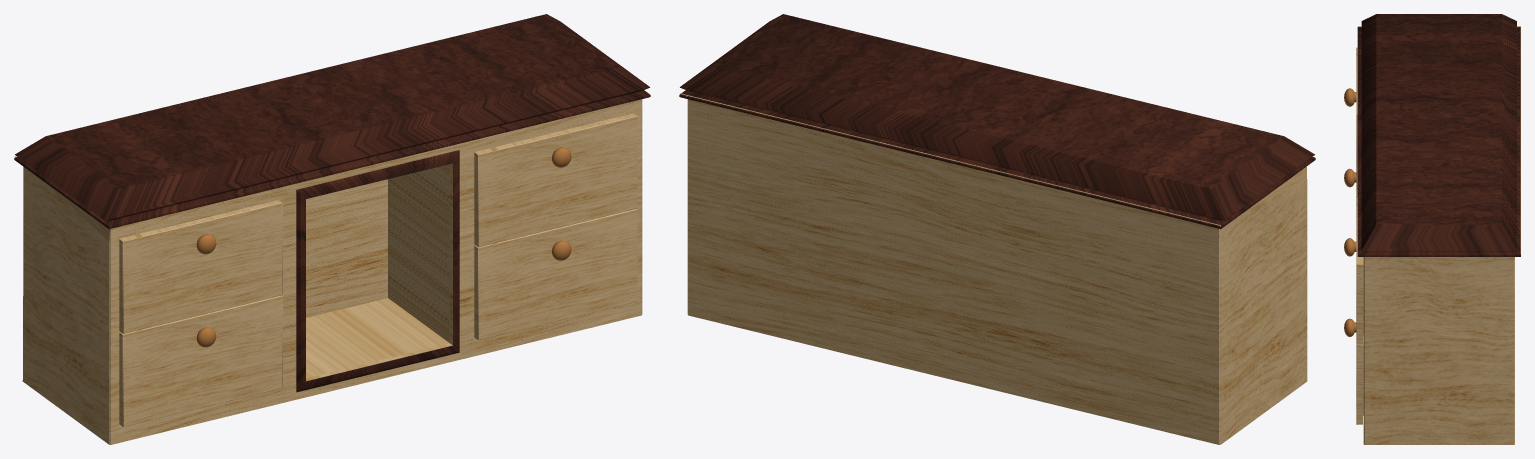
File: Between-Table.fbx
The picture shows the model from 3 angles, left to right: view 1: azimuth 30°, elevation 25°; view 2: azimuth 150°, elevation 25°; view 3: azimuth 270°, elevation 25°; orthographic projection. The views are drawn at different scales.
Parts seen in each view (by area): view 1: Body, Top_Body, R_Drawer01, L_Drawer01, R_Drawer02, L_Drawer02, Border_Body; view 2: Body, Top_Body; view 3: Top_Body, Body, R_Drawer01, R_Drawer02, L_Drawer01, L_Drawer02.
Part boxes in pixels (x1,y1,x2,y2): Body: (15, 99, 642, 444); Top_Body: (14, 14, 650, 228); R_Drawer01: (474, 113, 637, 247); L_Drawer01: (119, 200, 282, 333); R_Drawer02: (474, 208, 637, 340); L_Drawer02: (119, 295, 282, 426); Border_Body: (296, 150, 459, 392); Body: (679, 93, 1307, 444); Top_Body: (679, 14, 1315, 228); Top_Body: (1357, 14, 1520, 256); Body: (1363, 26, 1520, 444); R_Drawer01: (1344, 197, 1363, 344); R_Drawer02: (1344, 318, 1363, 424); L_Drawer01: (1344, 47, 1357, 194); L_Drawer02: (1344, 168, 1357, 197).
Bounding box in the file's own units: 214 × 92.45 × 69.61.
Materials: 4 (4 with a texture image).
